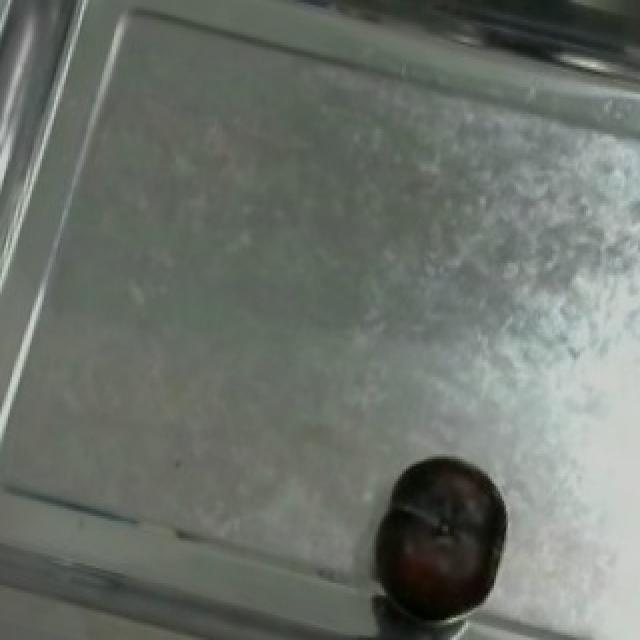Fruit: (364, 436, 522, 640)
